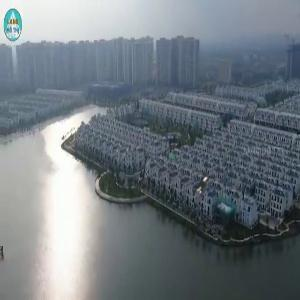drone: (159, 145, 244, 230)
